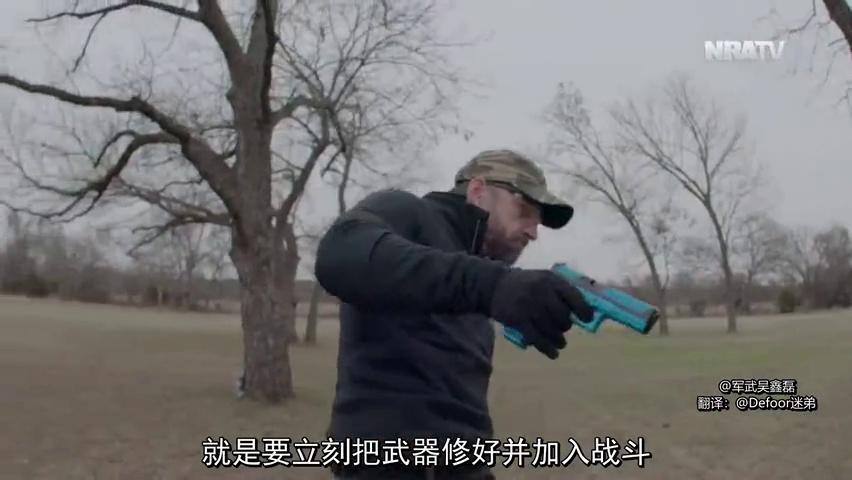gun: (534, 265, 660, 350)
